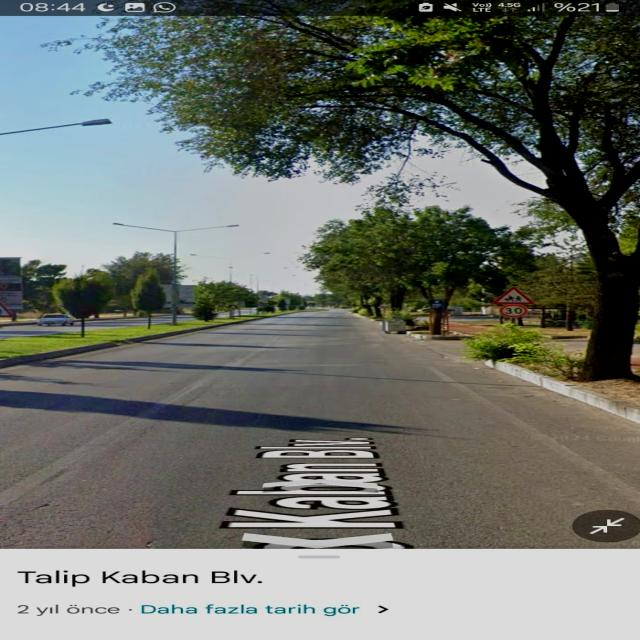okul_gecidi: (492, 286, 536, 304)
